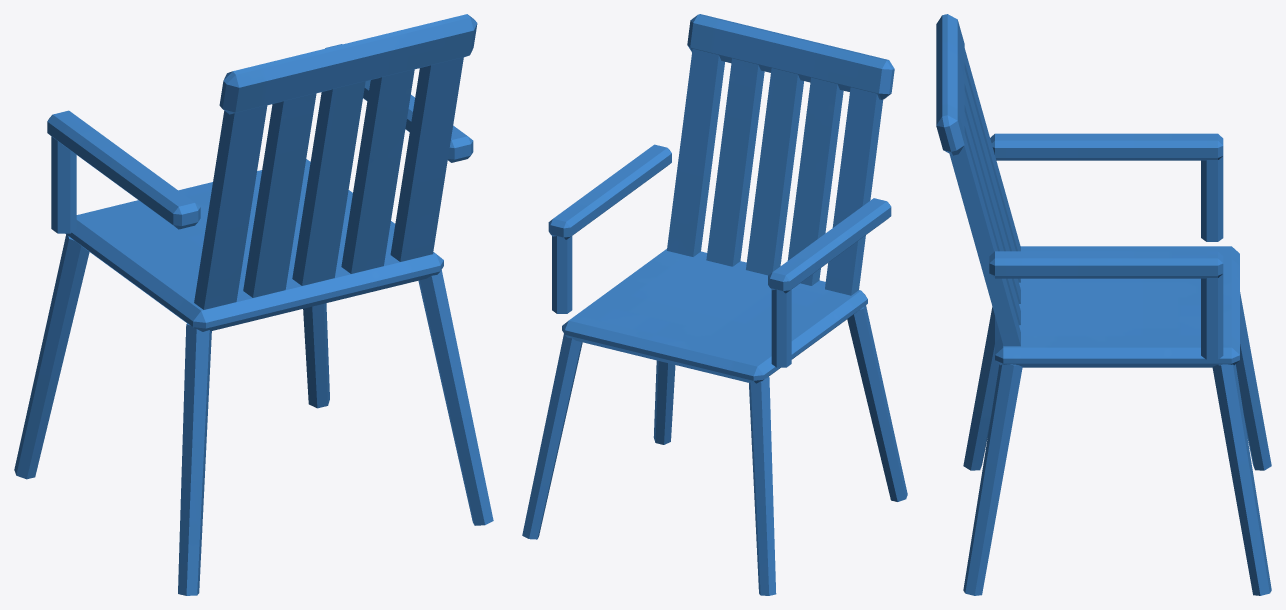
File: beach-chair-blue.glb
3 renders of one model, left to right at view 1: azimuth 30°, elevation 25°; view 2: azimuth 150°, elevation 25°; view 3: azimuth 270°, elevation 25°, orthographic. The views are drawn at different scales.
Visible parts, largest first — view 1: beach_chair_blue; view 2: beach_chair_blue; view 3: beach_chair_blue.
Boxes of the visible parts, x1,y1,x2,y2 form: beach_chair_blue: [14, 14, 493, 595]; beach_chair_blue: [522, 14, 907, 595]; beach_chair_blue: [936, 14, 1271, 595].
Bounding box in the file's own units: 0.5751 × 0.9238 × 0.6024.
1 material, 1 textured.
